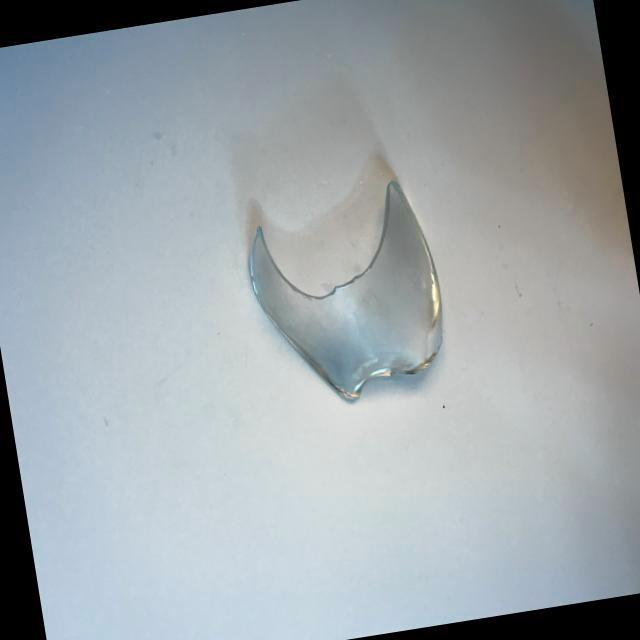glass: (220, 143, 467, 428)
